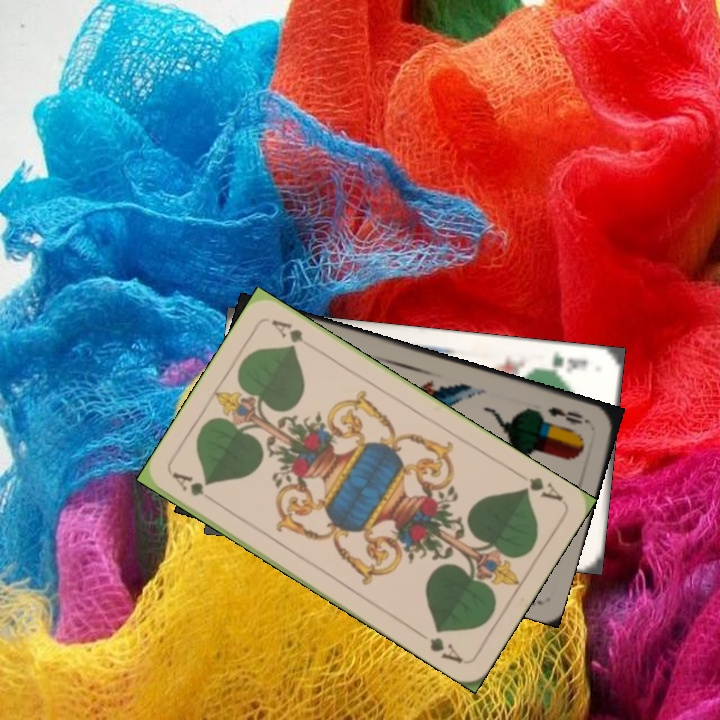EO: (543, 402, 593, 427)
GA: (168, 468, 221, 507), (518, 472, 566, 504)
GK: (538, 347, 591, 376)
